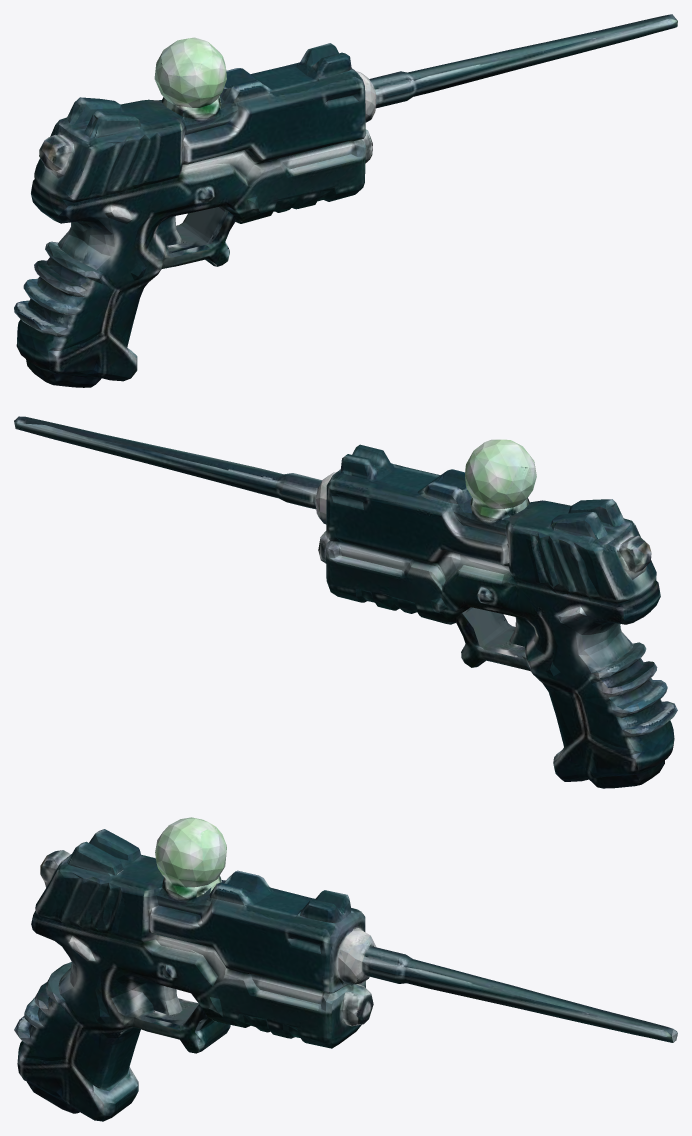
Rendered from ha-w-stinger-pistol.glb.
The picture shows the model from 3 angles, top to bottom: view 1: azimuth 30°, elevation 25°; view 2: azimuth 150°, elevation 25°; view 3: azimuth 330°, elevation 25°; orthographic projection.
Parts seen in each view (by area): view 1: tmp1d1d3u_n.ply; view 2: tmp1d1d3u_n.ply; view 3: tmp1d1d3u_n.ply.
Boxes of the visible parts, x1=… form: tmp1d1d3u_n.ply: x1=14, y1=14, x2=677, y2=387; tmp1d1d3u_n.ply: x1=14, y1=416, x2=677, y2=788; tmp1d1d3u_n.ply: x1=14, y1=817, x2=677, y2=1121.
Bounding box in the file's own units: 0.45 × 0.2068 × 0.0517.
Materials: 1 (1 with a texture image).
